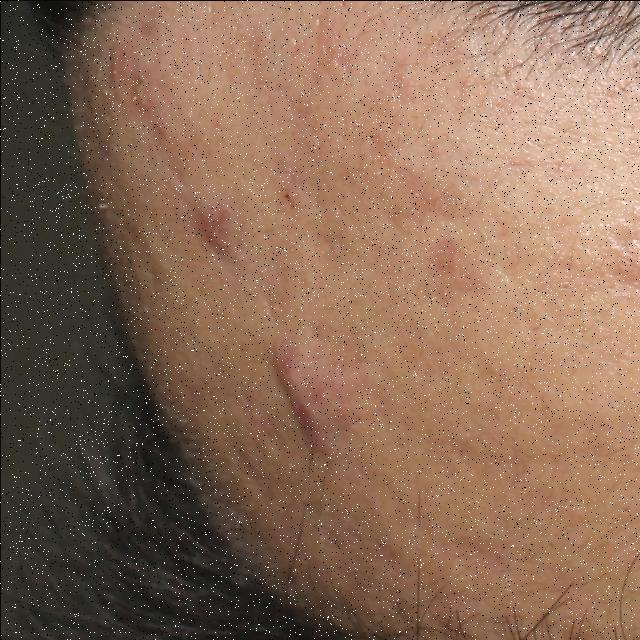nodules: (252, 328, 361, 463), (185, 198, 248, 266)
